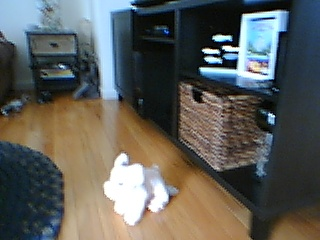piggy: (101, 151, 171, 228)
